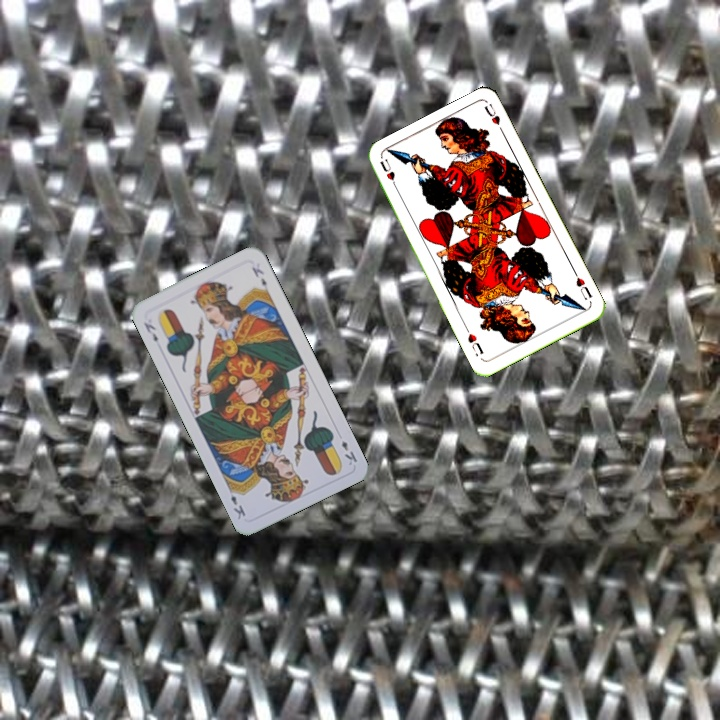EK: (139, 318, 162, 352), (338, 437, 360, 468)
HU: (376, 155, 401, 193), (570, 268, 595, 302)
